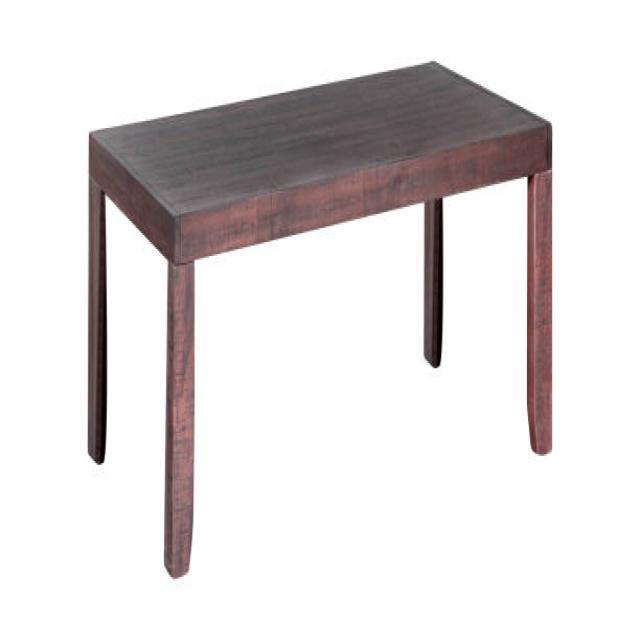table: (86, 58, 554, 577)
